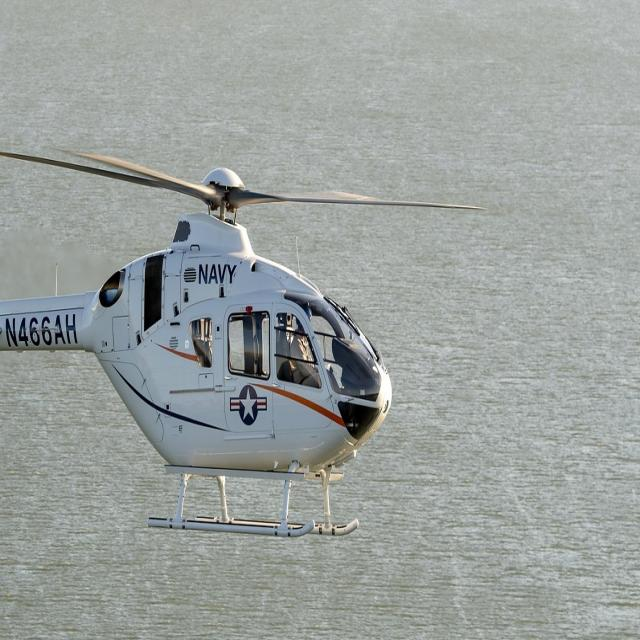helicopter: (1, 89, 478, 577)
